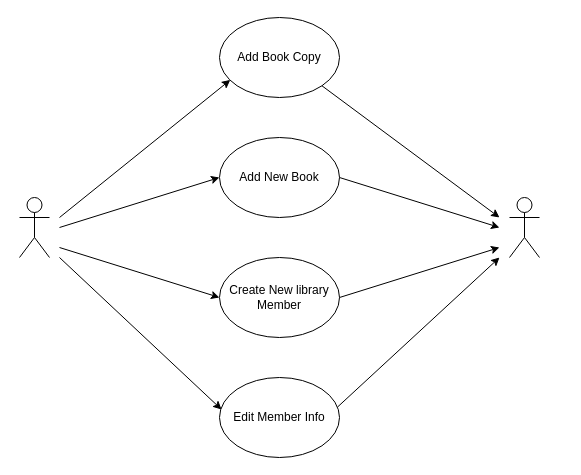
Image size: 581x475. Some labels were removed from this diagram. Each missing label, with the centre of its shape:
"Admin" belongs at (34,227).
"Library System" belongs at (524,227).
